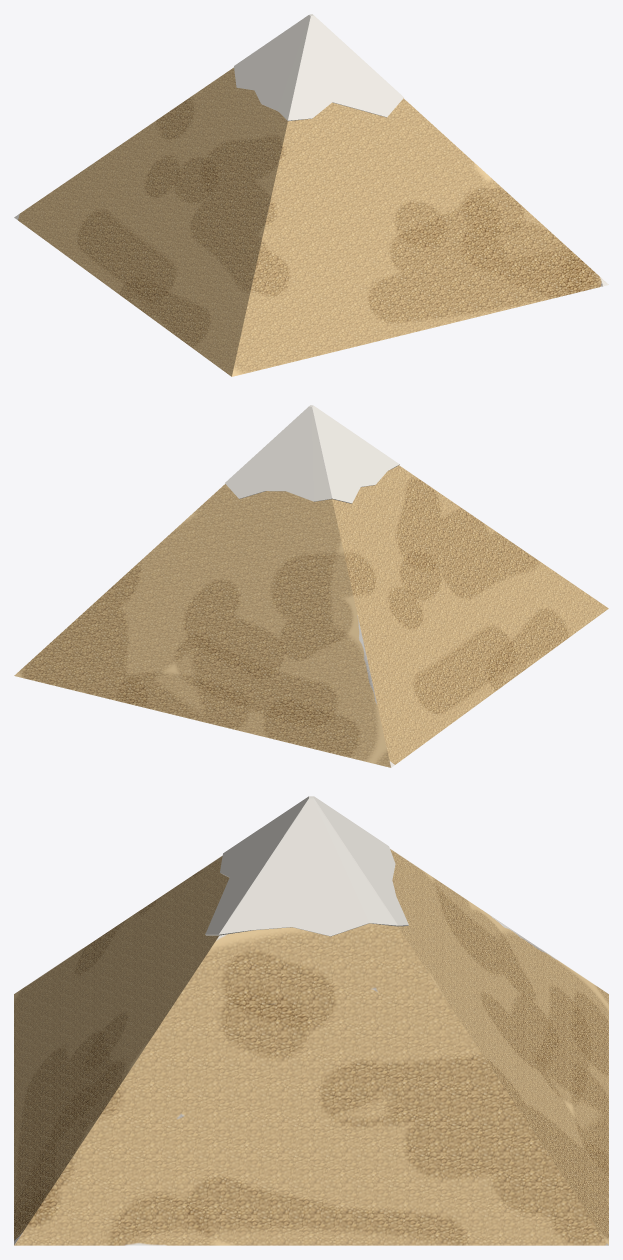
File: egyptian_pyramid.glb
3 views of the same model, one above another, from view 1: azimuth 30°, elevation 25°; view 2: azimuth 150°, elevation 25°; view 3: azimuth 270°, elevation 25° (orthographic). The views are drawn at different scales.
Visible parts, largest first — view 1: piramide destruida; view 2: piramide destruida; view 3: piramide destruida.
Part boxes in pixels (x1,y1,x2,y2): piramide destruida: [14, 14, 608, 376]; piramide destruida: [14, 405, 608, 767]; piramide destruida: [14, 796, 608, 1245].
Size of the model in its own units: 2.3 by 1.38 by 2.3.
Materials: 1 (1 with a texture image).
